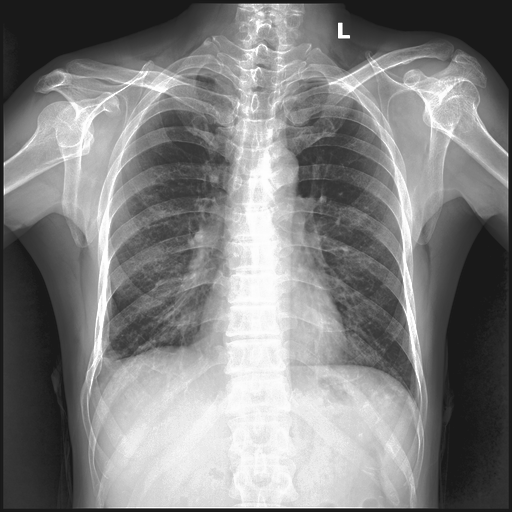Calcification: (90, 348, 125, 389), (174, 66, 227, 78), (310, 73, 349, 88)
Pleural effusion: (90, 348, 125, 389)
